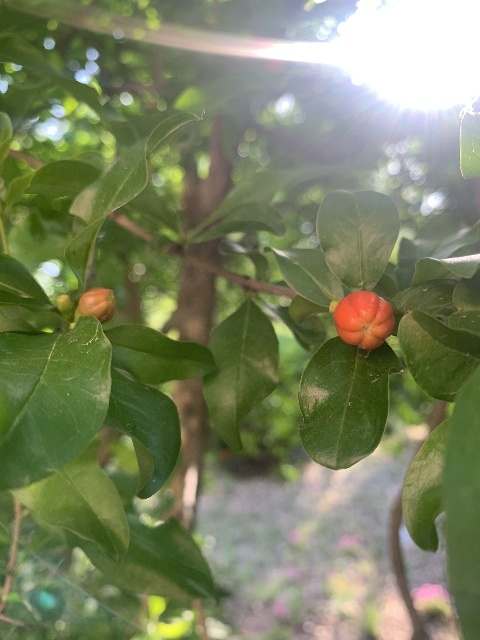bud: (331, 290, 395, 349), (408, 583, 460, 637), (75, 287, 116, 323)
